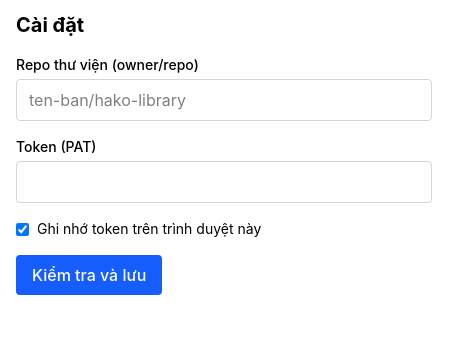
Setup › shows auth message on 401
Type "me/lib" into the field labelled "Repo thư viện (owner/repo)" at x=224, y=100, box x1=16 y1=79 x2=432 y2=121
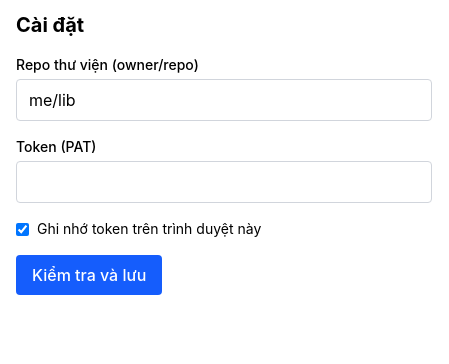
Type "tok" into the password field labelled "Token (PAT)" at x=224, y=182, box x1=16 y1=161 x2=432 y2=203
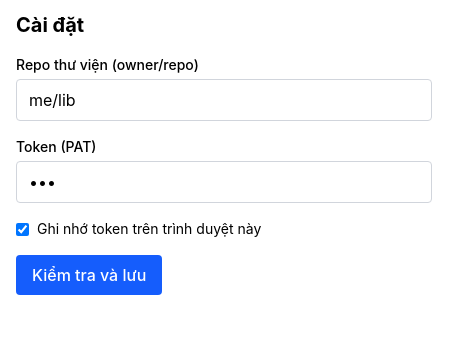
Click the button "Kiểm tra và lưu" at x=89, y=275, box x1=16 y1=255 x2=162 y2=295
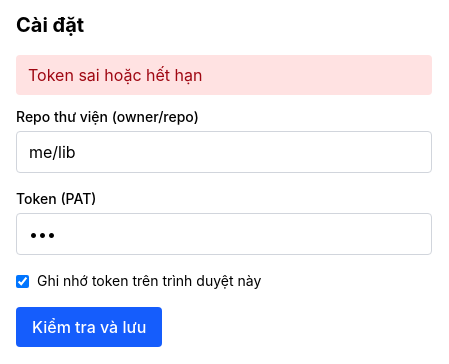
Expected: the text "Token sai hoặc hết hạn" is shown, x1=16 y1=55 x2=432 y2=95
